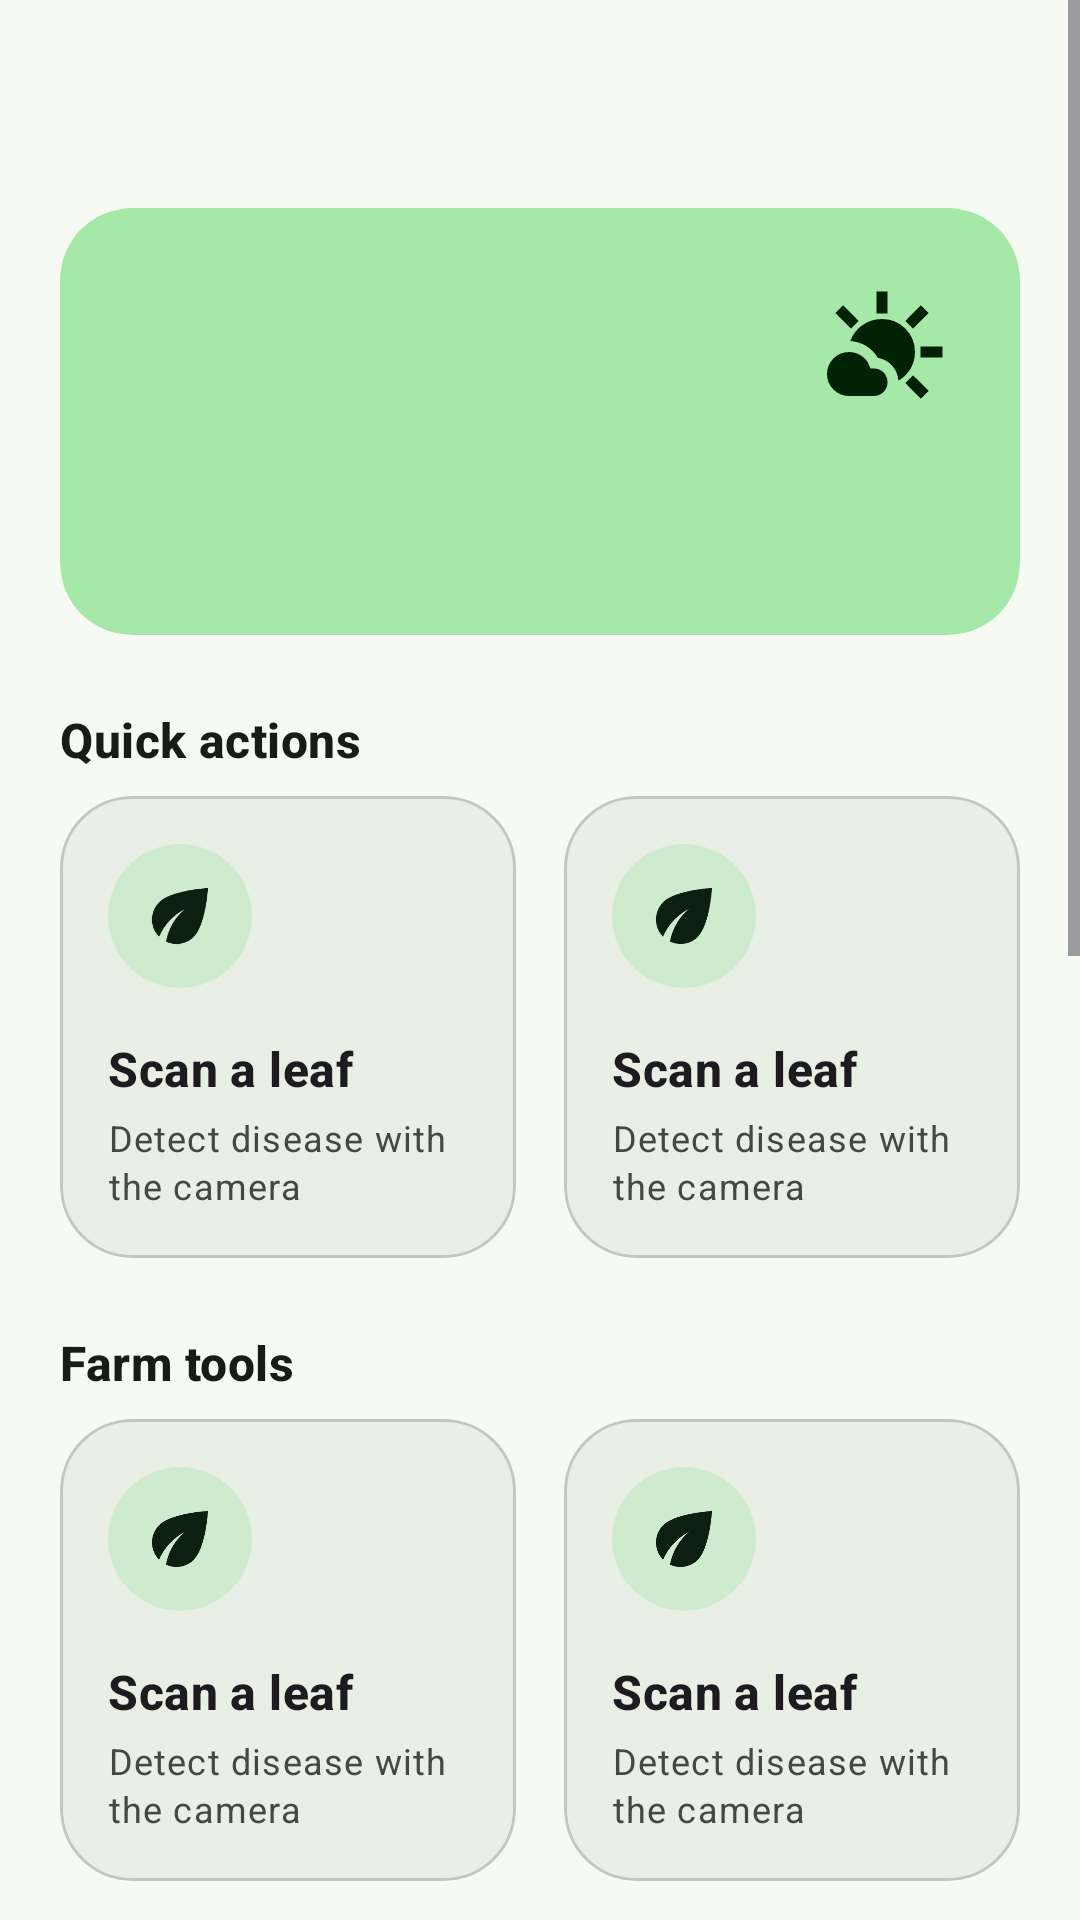

Icons on this 1080×1920 Android screen, each with the point to tap as (x,y):
weather: (885,345)
